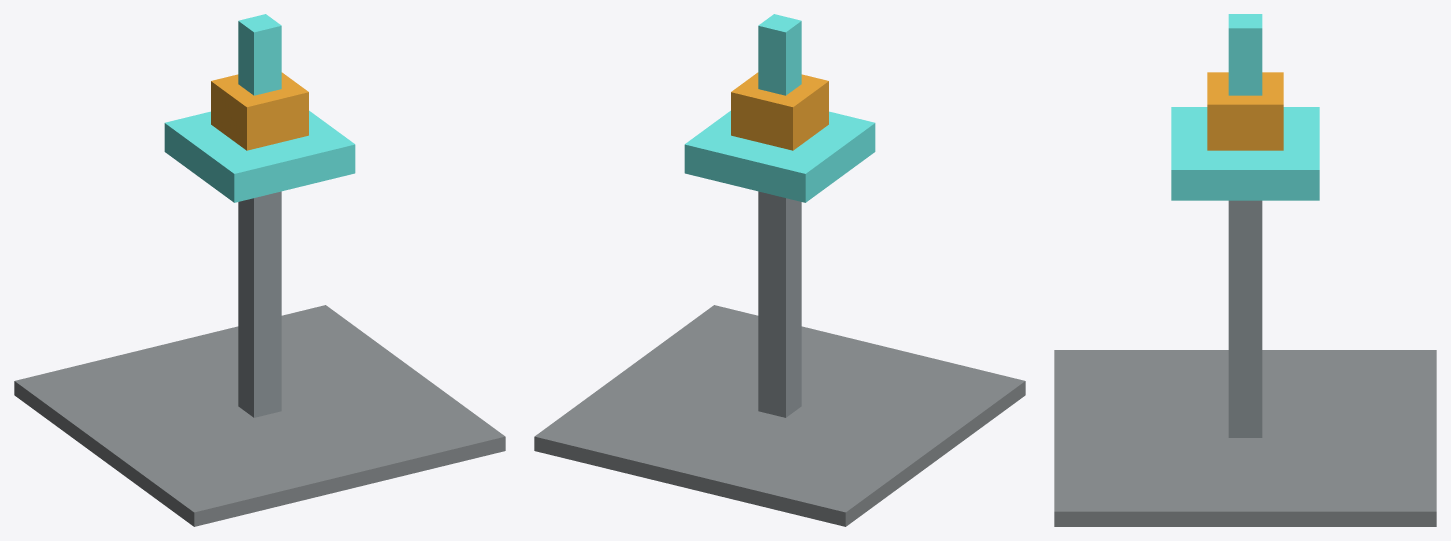
The model's file is voxel-shanghai-evac-beacon.gltf.
The picture shows the model from 3 angles, left to right: view 1: azimuth 30°, elevation 25°; view 2: azimuth 150°, elevation 25°; view 3: azimuth 270°, elevation 25°; orthographic projection. The views are drawn at different scales.
Size of the model in its own units: 1.8 by 2.21 by 1.8.
